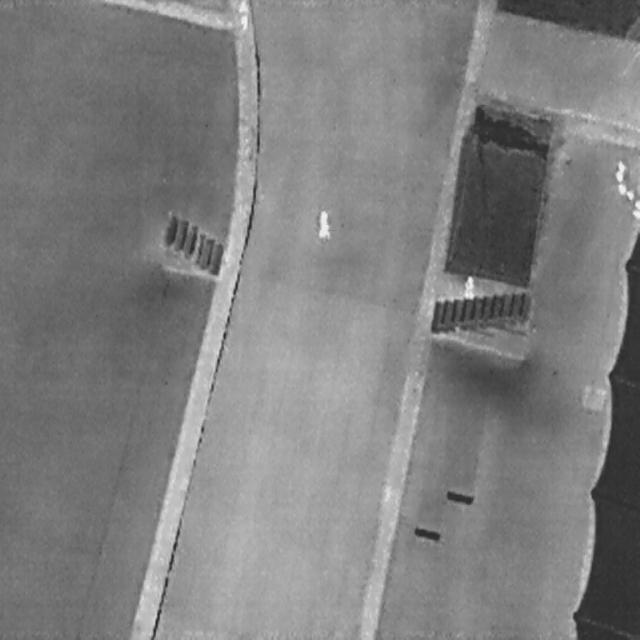Person: (238, 0, 251, 28), (318, 208, 329, 240), (465, 272, 474, 298)
